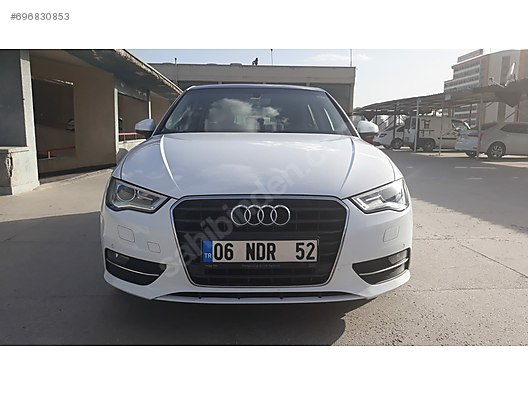audi: (226, 204, 292, 226)
